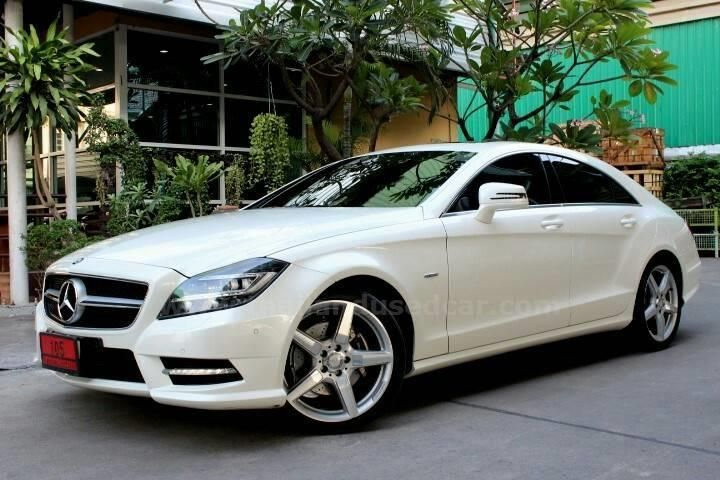sedan: (31, 139, 704, 429)
